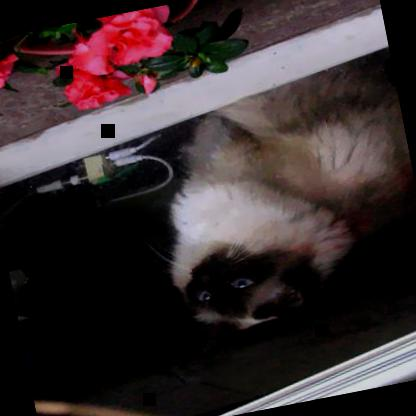cat: (135, 51, 415, 360)
